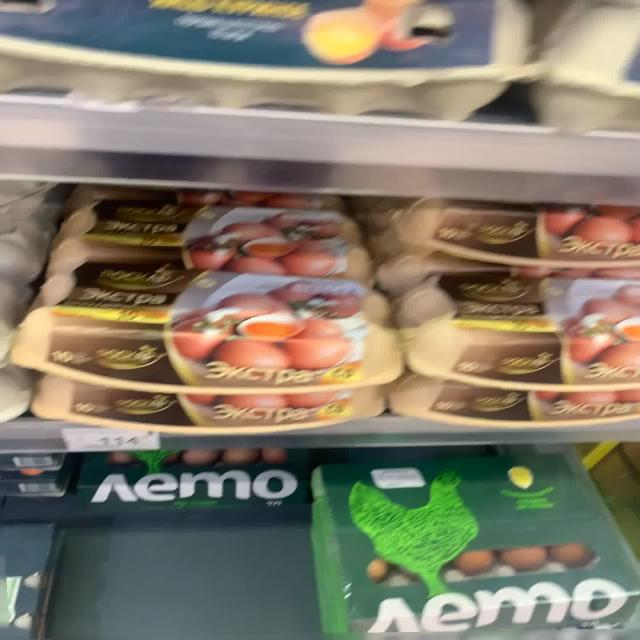egg box: (313, 461, 633, 638), (6, 4, 490, 112), (50, 268, 392, 385), (57, 192, 363, 281), (406, 273, 636, 382), (392, 182, 634, 262), (77, 446, 303, 514), (400, 364, 636, 428), (40, 385, 388, 425)
